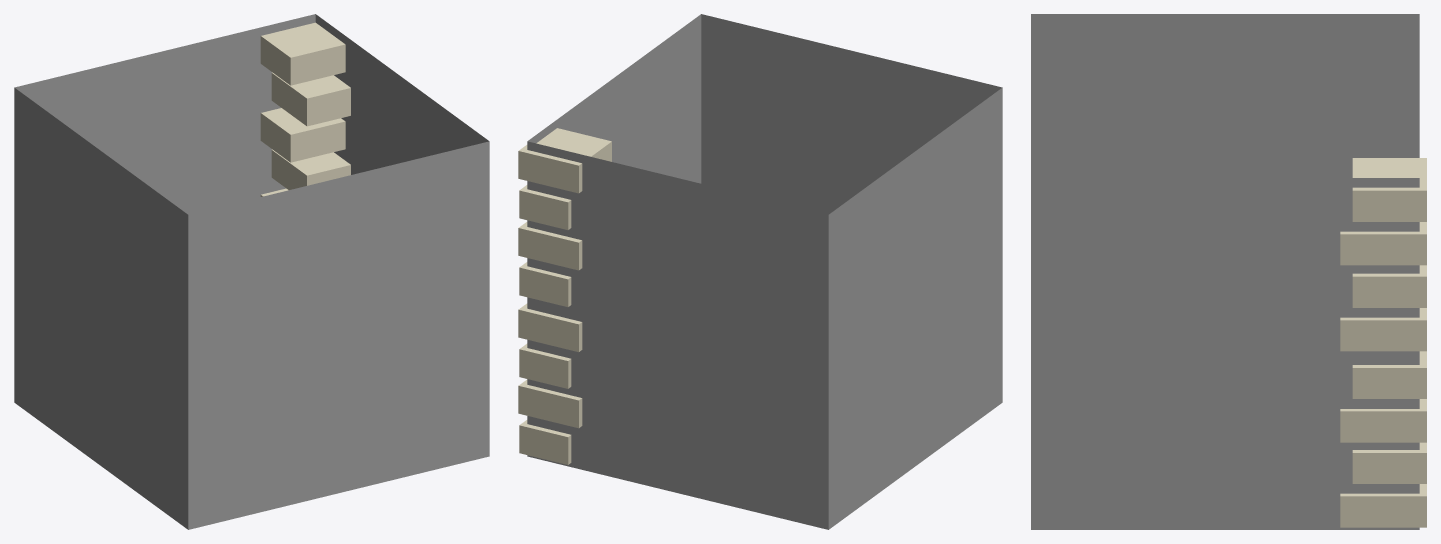
The model's file is Wall_Corner_left.fbx.
3 views of the same model, side by side, from view 1: azimuth 30°, elevation 25°; view 2: azimuth 150°, elevation 25°; view 3: azimuth 270°, elevation 25° (orthographic). The views are drawn at different scales.
Parts seen in each view (by area): view 1: pCube32; view 2: pCube32; view 3: pCube32.
Boxes of the visible parts, x1,y1,x2,y2 form: pCube32: (14, 14, 489, 529); pCube32: (518, 14, 1002, 529); pCube32: (1031, 14, 1426, 529).
Size of the model in its own units: 407 by 400 by 408.
